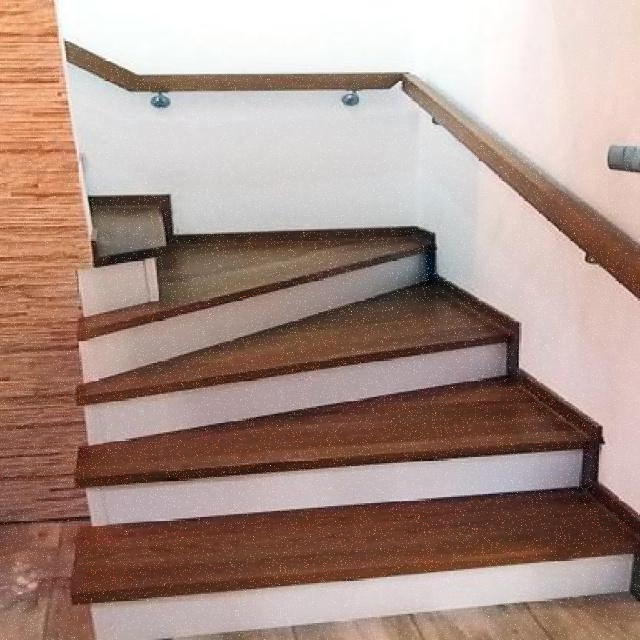stair: (9, 112, 640, 639)
